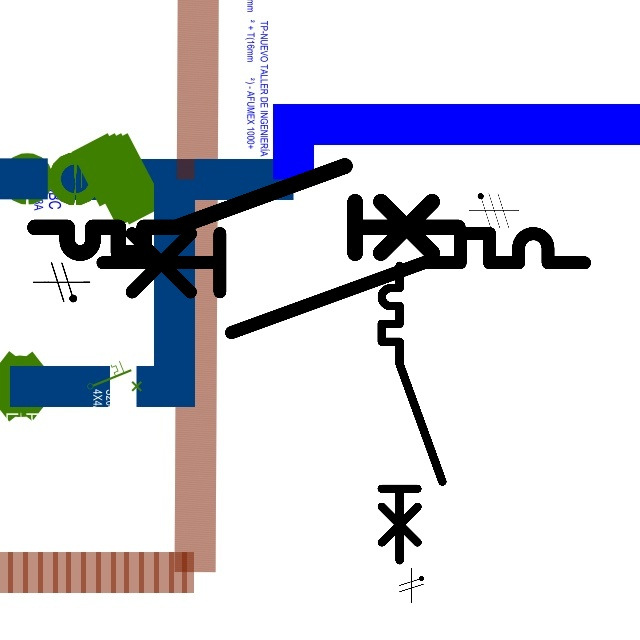interruptor_termomagnetico: (90, 221, 597, 345), (24, 155, 468, 264), (374, 258, 450, 568)
